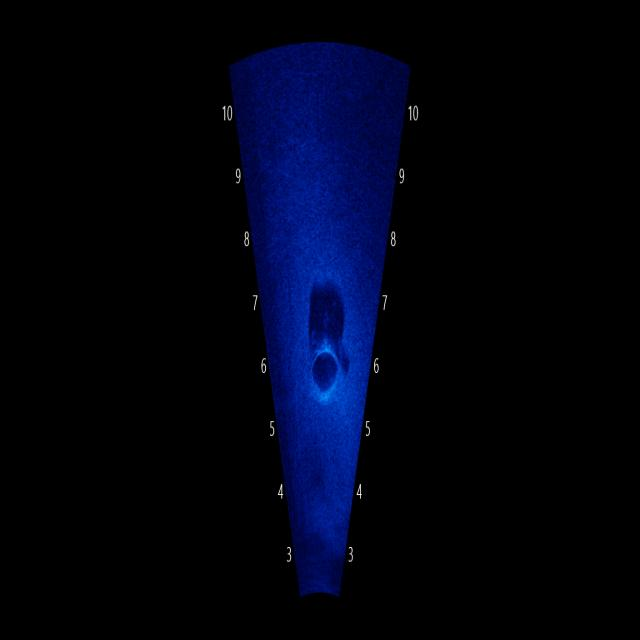circle: (302, 342, 351, 414)
